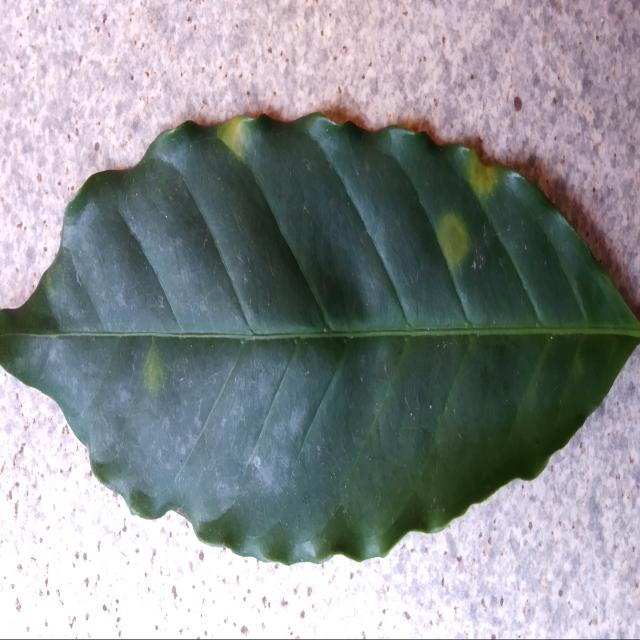Enfermedad-Roya: (0, 114, 640, 567)
